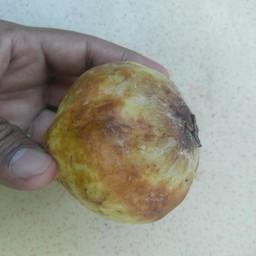Bad_guava: (43, 58, 199, 224)
